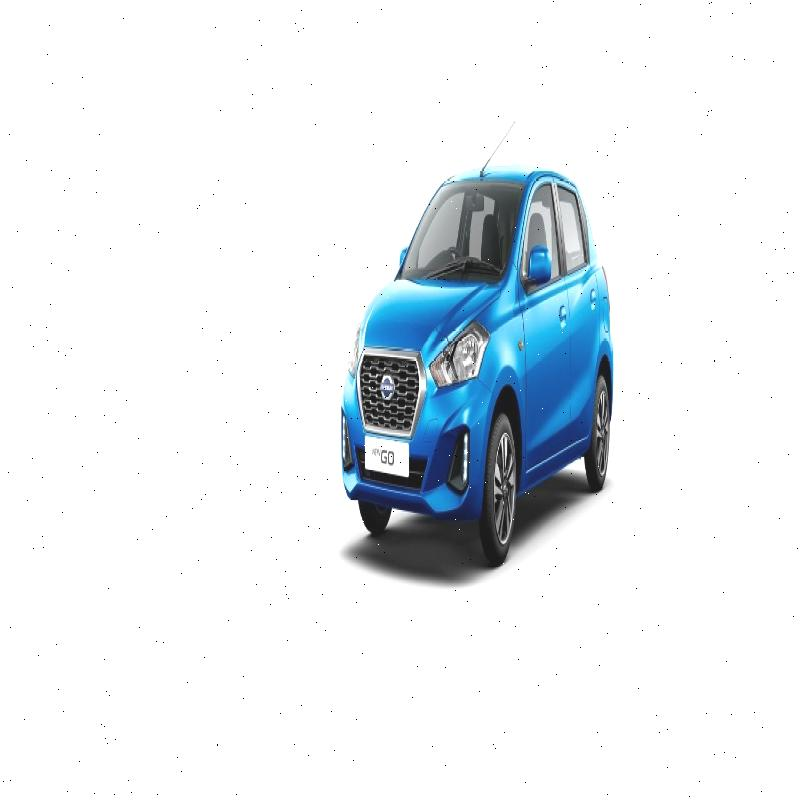car: (320, 151, 617, 551)
